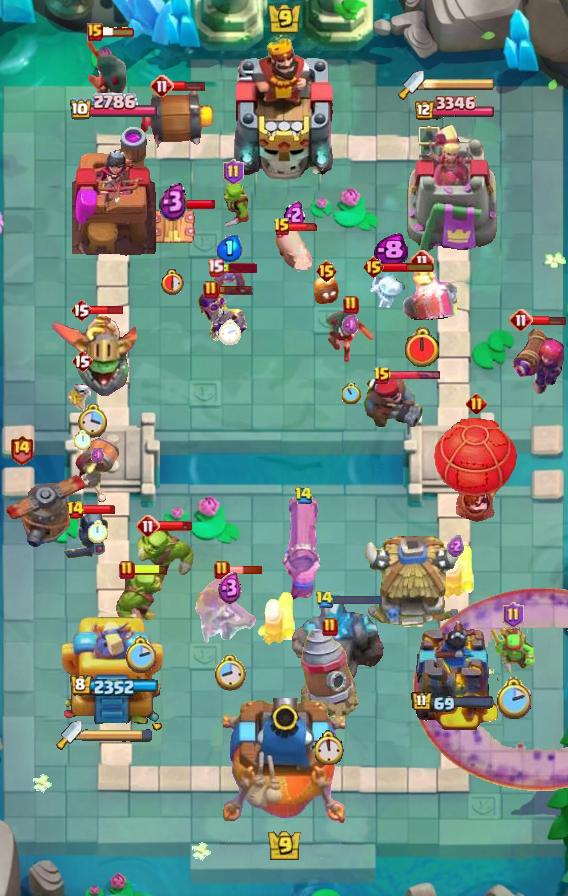bandit: (81, 37, 131, 101), (326, 307, 376, 365)
bar: (331, 593, 383, 606), (382, 261, 435, 273), (164, 198, 216, 210), (389, 370, 441, 381), (133, 563, 169, 576), (217, 284, 254, 296), (157, 520, 193, 532), (100, 26, 136, 38), (90, 304, 125, 316), (531, 315, 567, 326), (172, 80, 205, 92), (82, 504, 116, 515), (221, 263, 257, 273), (228, 565, 263, 575), (288, 222, 320, 232)
bar-level: (9, 434, 34, 465), (136, 514, 160, 538), (509, 308, 533, 332), (410, 249, 434, 273), (150, 74, 174, 98), (315, 259, 338, 283), (362, 255, 385, 279), (503, 602, 524, 628), (223, 159, 244, 185), (71, 349, 93, 373), (70, 298, 92, 322), (466, 393, 487, 414), (66, 500, 85, 520), (315, 590, 334, 609), (294, 486, 313, 505), (373, 366, 391, 386), (273, 217, 291, 237), (207, 258, 224, 277), (322, 617, 338, 637), (119, 560, 135, 580), (214, 560, 230, 580), (343, 295, 359, 315), (203, 280, 219, 300), (87, 23, 103, 41)
barbarian-barrel: (137, 88, 217, 148)
bat: (214, 268, 246, 298)
bomber-evolution: (195, 288, 249, 344)
clock: (403, 327, 441, 369), (495, 677, 531, 719), (214, 655, 246, 692), (124, 636, 156, 673), (315, 730, 345, 765), (78, 404, 108, 439), (161, 268, 186, 295), (219, 319, 242, 346), (88, 520, 108, 543), (342, 383, 361, 404), (74, 430, 91, 450)
dagger-duchess-tower: (406, 122, 500, 256), (62, 611, 166, 731)
dagger-duchess-tower-bar: (82, 728, 154, 742), (424, 77, 496, 91)
elixir: (373, 233, 408, 268), (159, 182, 188, 221), (218, 572, 242, 605), (217, 235, 243, 262), (284, 199, 305, 230), (342, 314, 360, 336), (447, 535, 464, 557), (91, 447, 105, 464)
fire-spirit: (312, 274, 340, 306)
firecracker: (255, 589, 297, 647), (434, 542, 476, 600)
firecracker-evolution: (512, 322, 566, 396)
goblin: (214, 181, 252, 229)
goblin-brawler: (132, 526, 194, 582), (112, 567, 168, 625)
hog: (273, 226, 315, 272)
hunter: (361, 375, 425, 429)
ice-spirit: (367, 266, 413, 310)
king-tower: (228, 35, 340, 181), (223, 698, 345, 826)
mini-pekka: (61, 508, 111, 562)
queen-tower: (72, 122, 156, 256), (405, 617, 501, 731)
royal-ghost: (387, 267, 457, 325)
skeleton: (68, 378, 96, 410)
spear-goblin: (490, 627, 536, 675)
tesla: (149, 205, 197, 249)
tower-bar: (69, 93, 159, 122), (412, 96, 494, 122), (70, 675, 159, 698), (411, 691, 495, 714)
wall-breaker: (74, 435, 122, 505)
